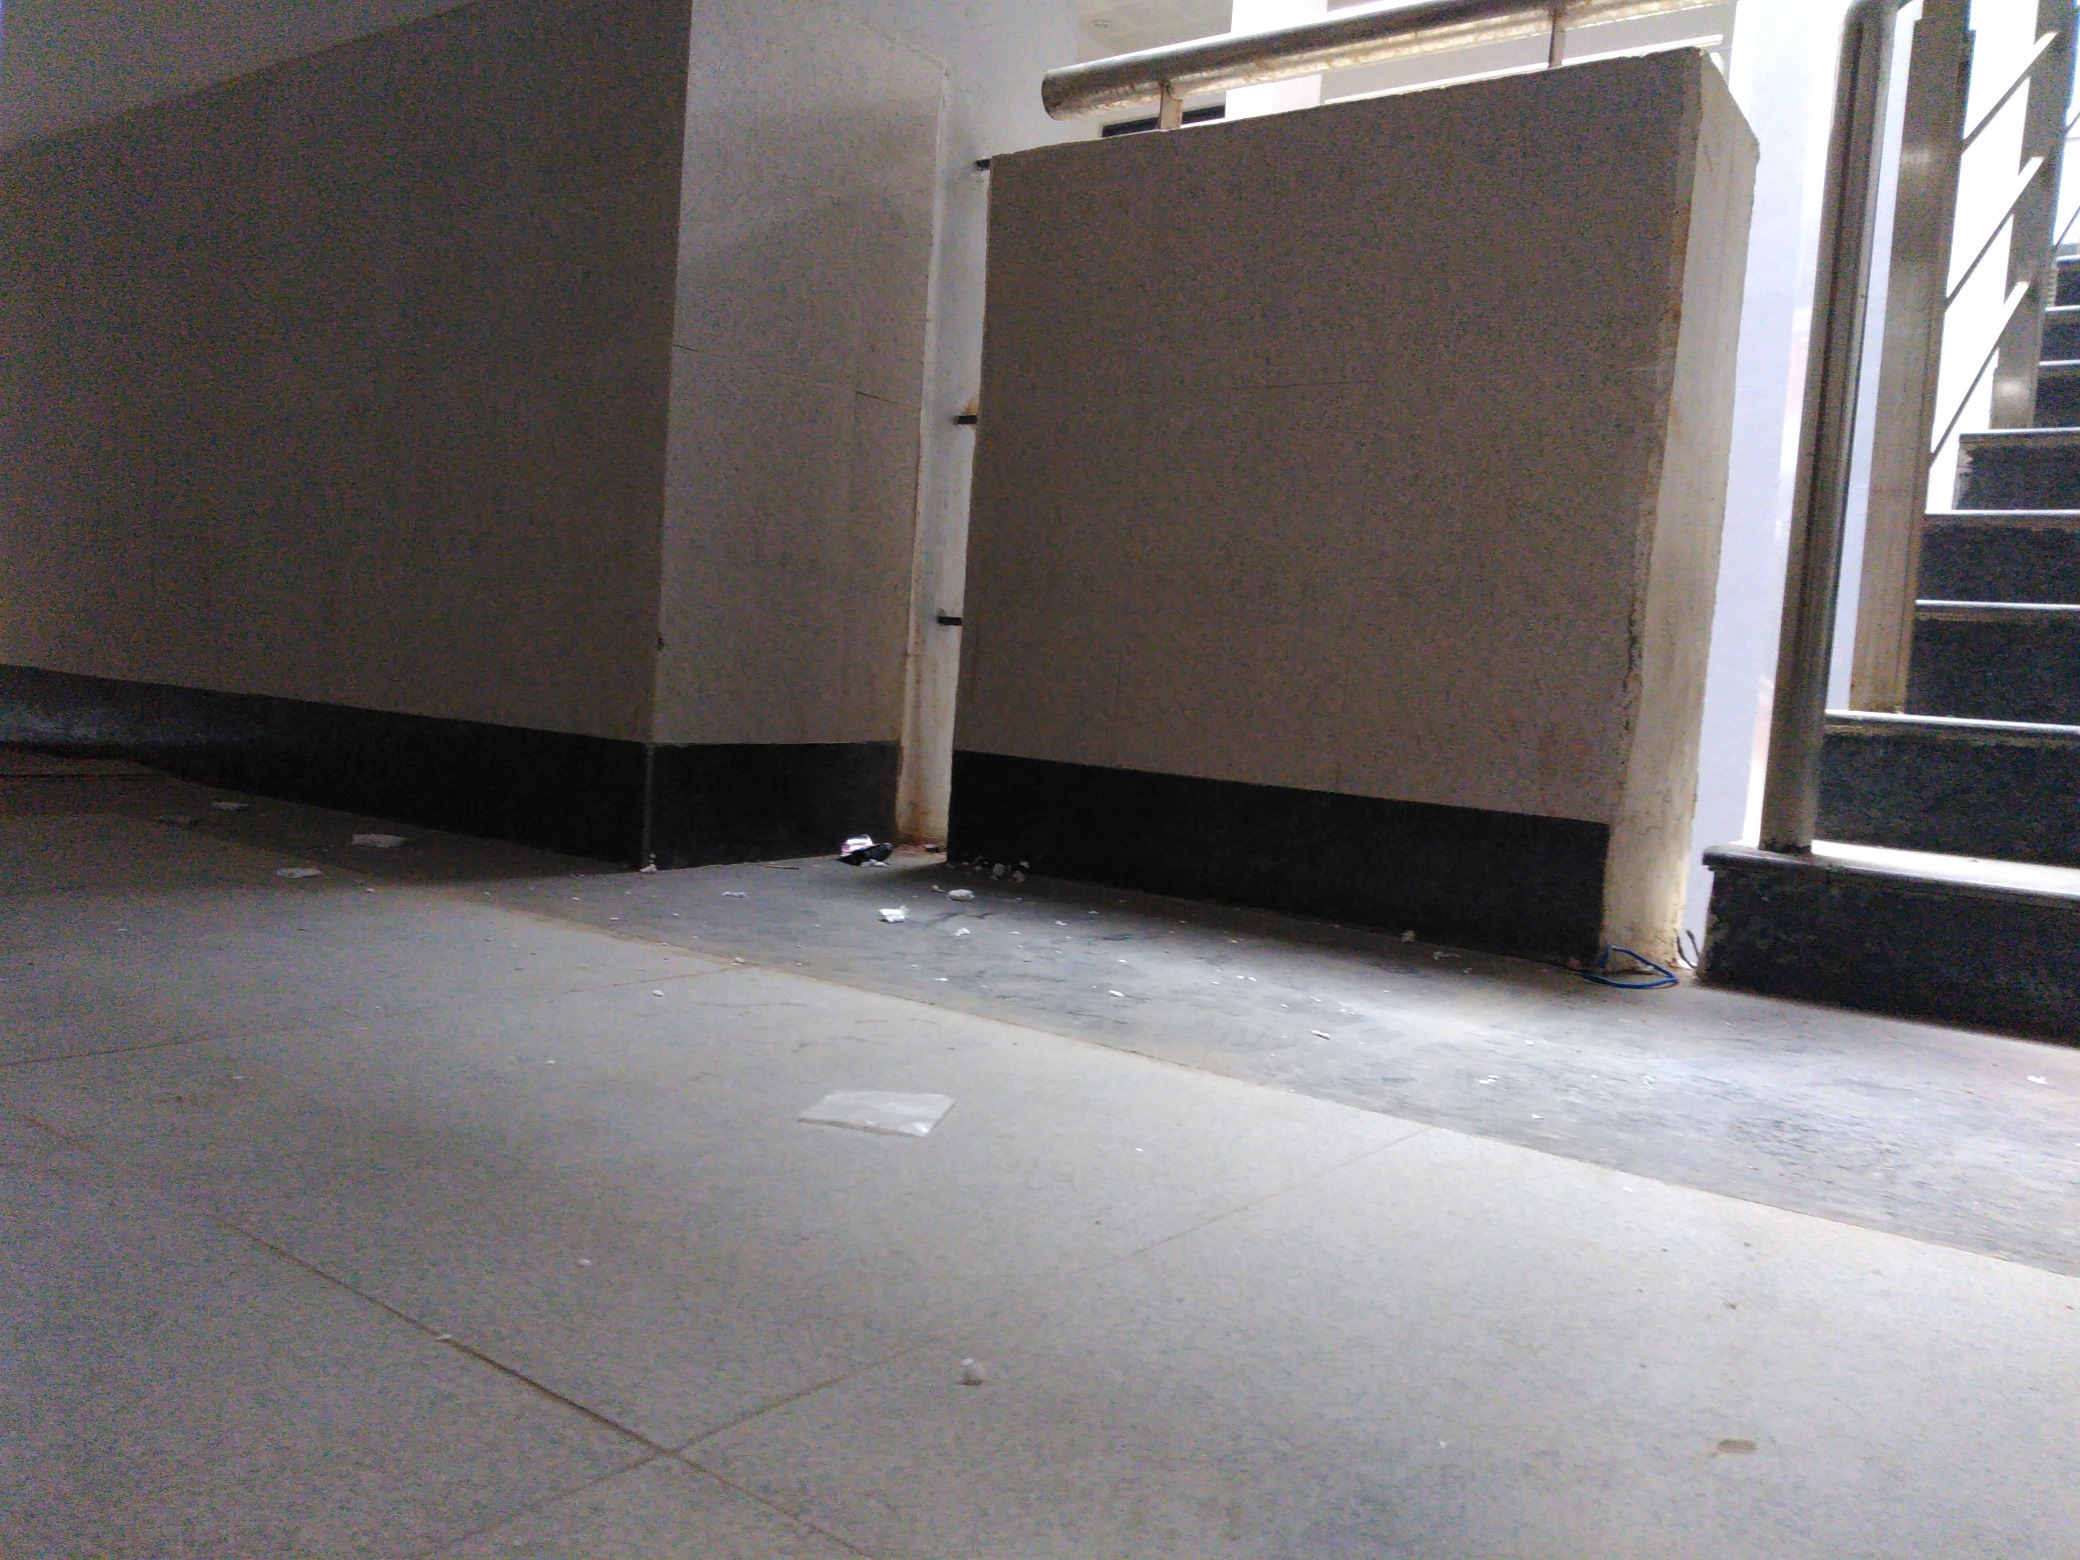stairs_up: (1787, 257, 2065, 1000)
